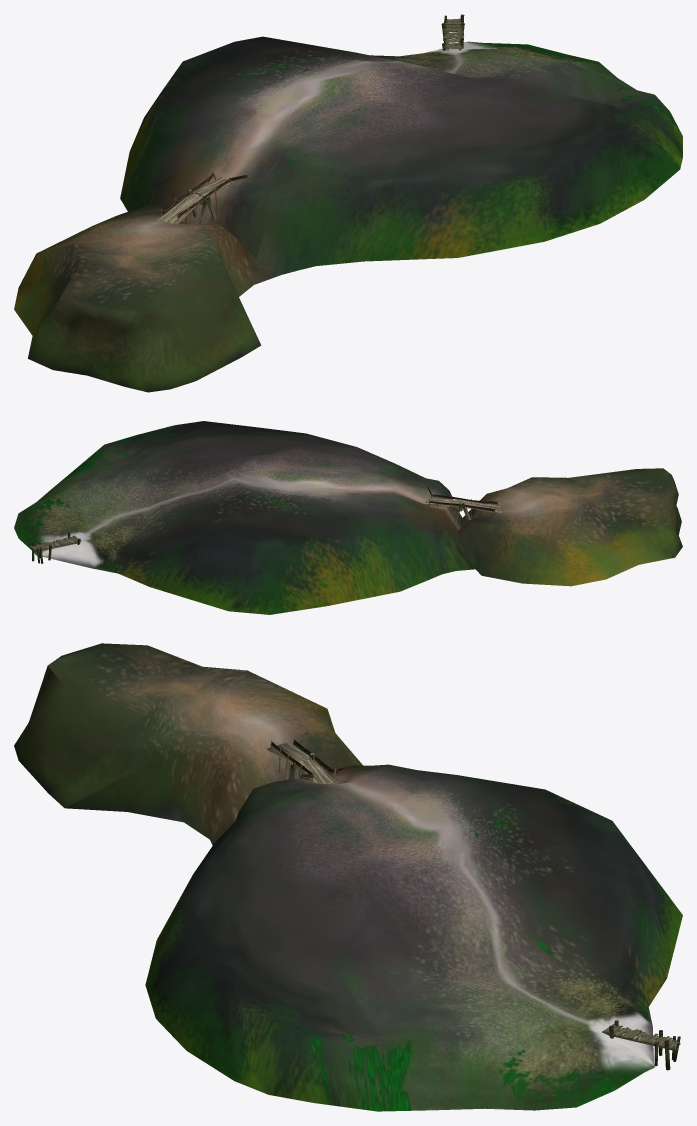
Rendered from pir_m_are_isl_rambleshack.fbx.
The picture shows the model from 3 angles, top to bottom: view 1: azimuth 30°, elevation 25°; view 2: azimuth 150°, elevation 25°; view 3: azimuth 270°, elevation 25°; orthographic projection. The views are drawn at different scales.
Visible parts, largest first — view 1: island1; view 2: island1; view 3: island1.
Boxes of the visible parts, x1,y1,x2,y2 form: island1: (14,36,682,392); island1: (14,421,682,614); island1: (14,643,682,1111).
Bounding box in the file's own units: 47434 × 6219 × 32866.
Materials: 4 (4 with a texture image).
